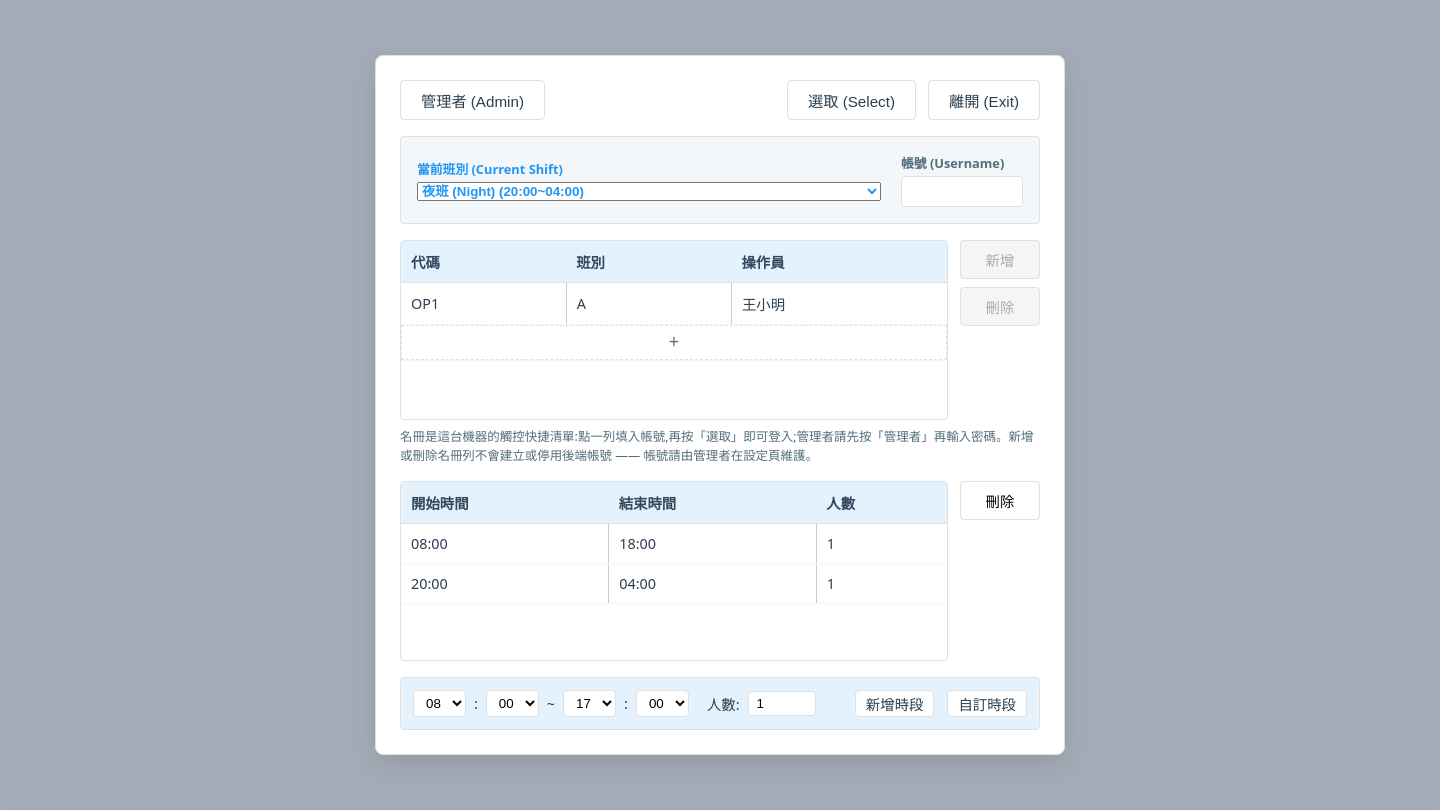
Test: S17 登入失敗改用畫面訊息 › 401 顯示帳號或密碼錯誤,且不呼叫 alert(alert 會卡住整個分頁)
Click the text "王小明" at (839, 303), box [731,282,947,324]
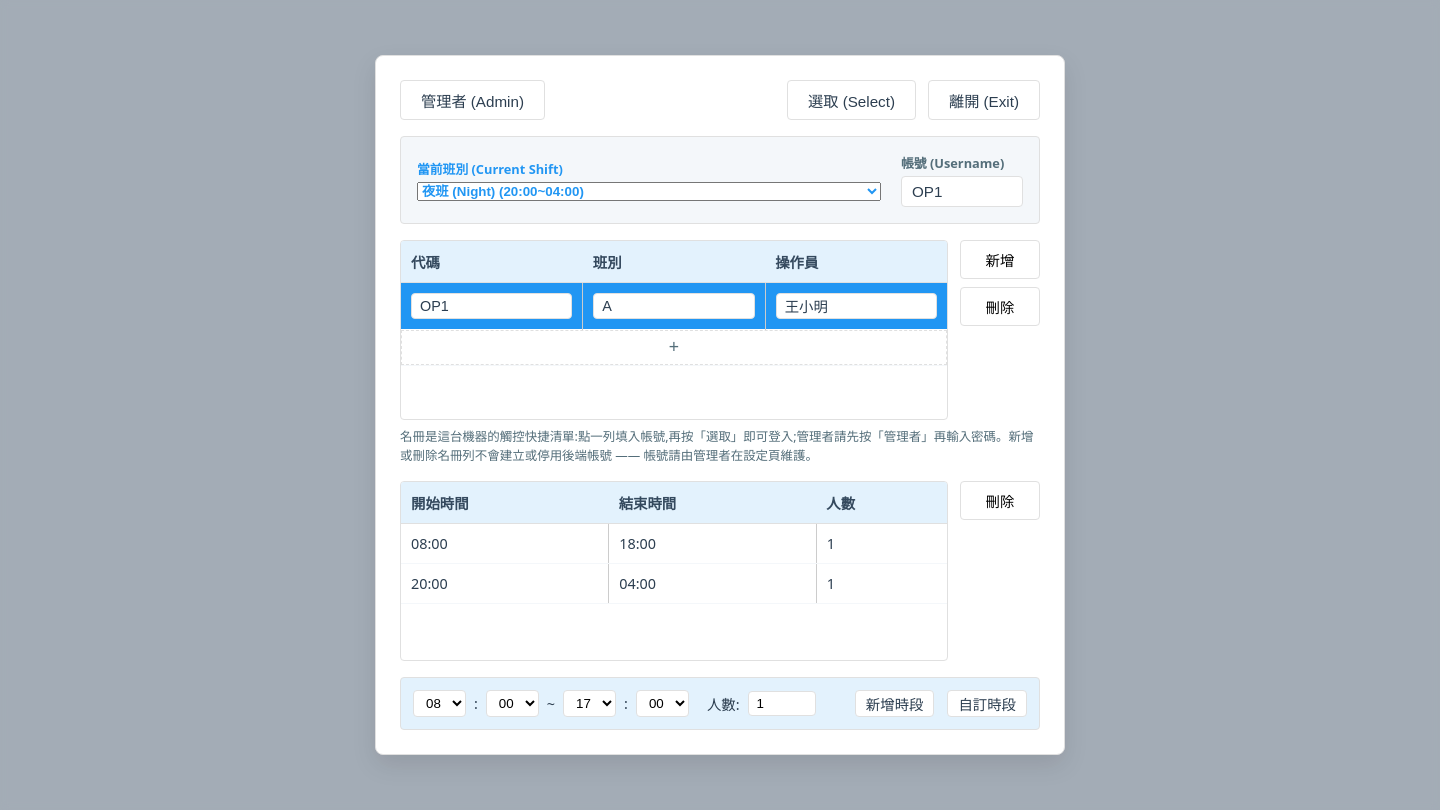
Click the button "選取 (Select)" at (851, 100), box [787,80,916,120]
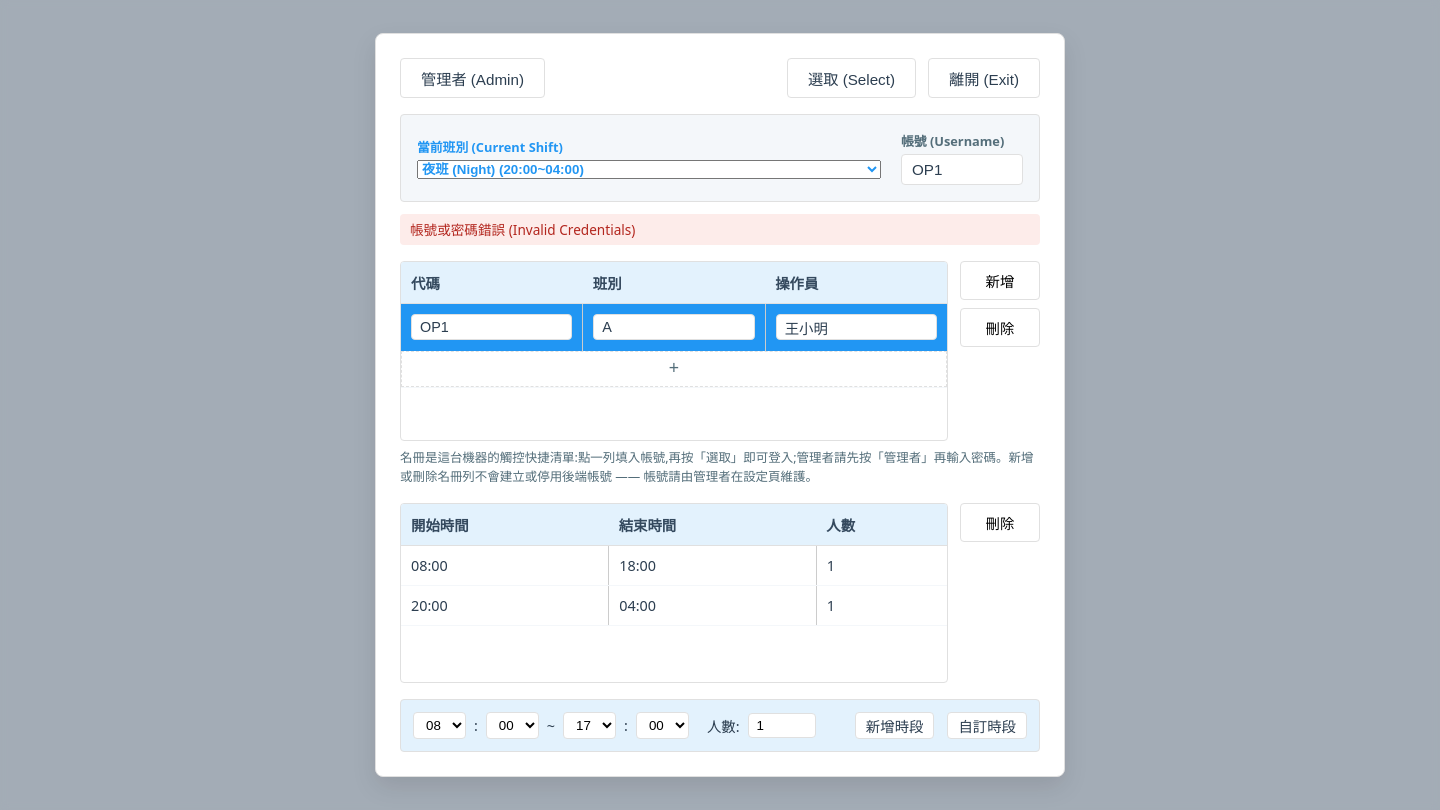
Now the message shows "帳號或密碼錯誤", box [410,220,635,239]
